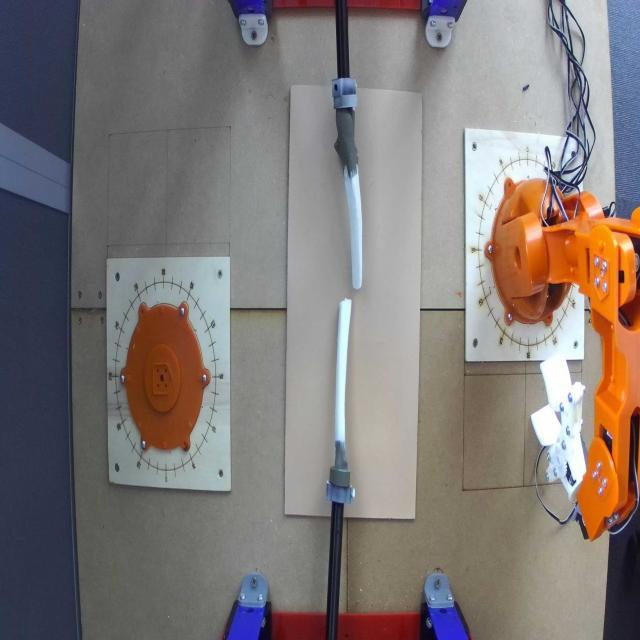bone: (335, 134, 370, 294), (331, 296, 357, 446)
